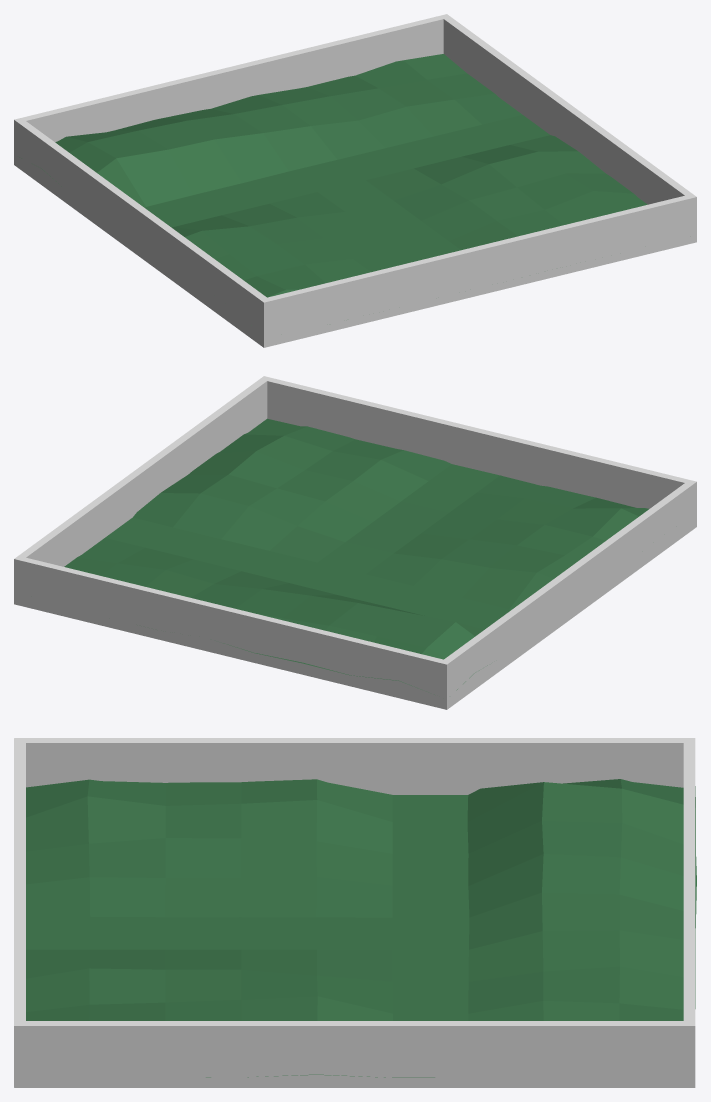
File: environment2.fbx
3 renders of one model, top to bottom at view 1: azimuth 30°, elevation 25°; view 2: azimuth 150°, elevation 25°; view 3: azimuth 270°, elevation 25°, orthographic. The views are drawn at different scales.
Visible parts, largest first — view 1: Plane, Cube.003, Cube.002, Cube.001, Cube; view 2: Plane, Cube.002, Cube.003, Cube.001, Cube; view 3: Plane, Cube, Cube.001, Cube.002, Cube.003.
Boxes of the visible parts, x1=… form: Plane: x1=19, y1=54, x2=647, y2=325; Cube.003: x1=264, y1=195, x2=696, y2=347; Cube.002: x1=14, y1=14, x2=450, y2=142; Cube.001: x1=14, y1=120, x2=270, y2=347; Cube: x1=443, y1=17, x2=696, y2=204; Plane: x1=64, y1=418, x2=648, y2=694; Cube.002: x1=14, y1=556, x2=450, y2=709; Cube.003: x1=267, y1=378, x2=688, y2=508; Cube.001: x1=444, y1=480, x2=696, y2=709; Cube: x1=18, y1=376, x2=270, y2=566; Plane: x1=26, y1=779, x2=696, y2=1077; Cube: x1=14, y1=1021, x2=695, y2=1087; Cube.001: x1=14, y1=738, x2=694, y2=794; Cube.002: x1=683, y1=738, x2=695, y2=1025; Cube.003: x1=14, y1=738, x2=25, y2=1087.
Size of the model in its own units: 2003 by 200 by 2005.
